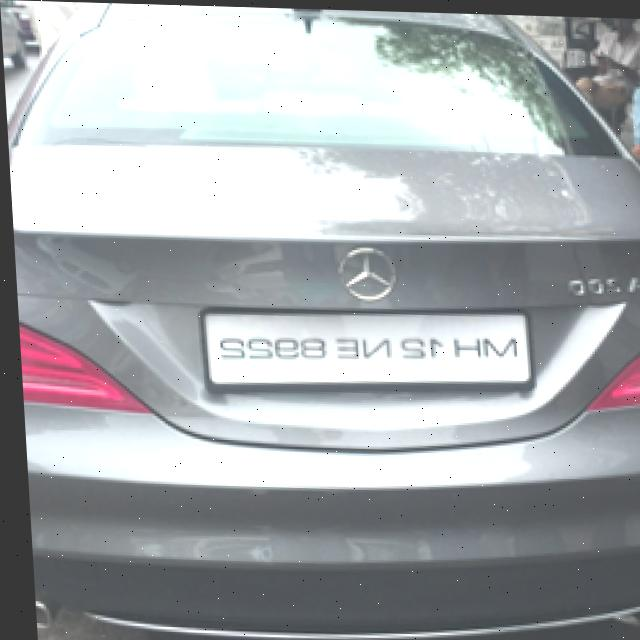plate: (194, 298, 527, 402)
